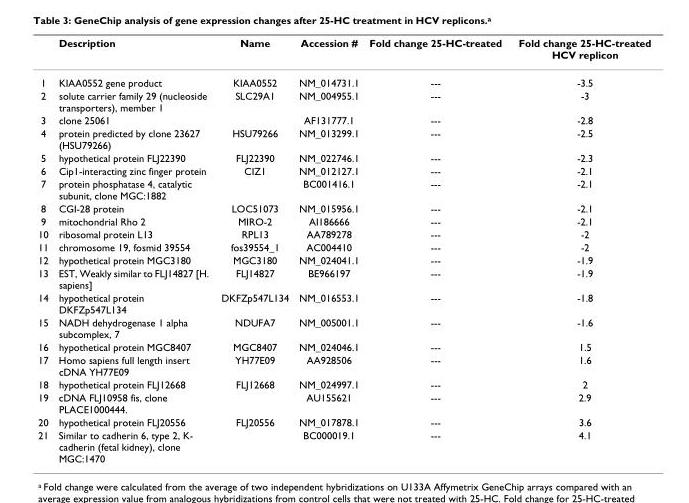table: (37, 36, 650, 464)
table column: (52, 36, 214, 464), (363, 36, 509, 464), (509, 36, 650, 464), (214, 36, 293, 464), (293, 36, 363, 464), (37, 36, 52, 464)
table column header: (37, 36, 650, 68)
table row: (37, 428, 650, 464), (37, 36, 650, 68), (37, 88, 650, 113), (37, 126, 650, 151), (37, 176, 650, 201), (37, 290, 650, 315), (37, 315, 650, 340), (37, 390, 650, 415), (37, 266, 650, 290), (37, 353, 650, 377), (37, 68, 650, 88), (37, 113, 650, 126), (37, 163, 650, 176), (37, 201, 650, 214), (37, 214, 650, 227), (37, 227, 650, 240), (37, 240, 650, 253), (37, 253, 650, 266), (37, 340, 650, 353), (37, 377, 650, 390), (37, 415, 650, 428), (37, 151, 650, 163)
